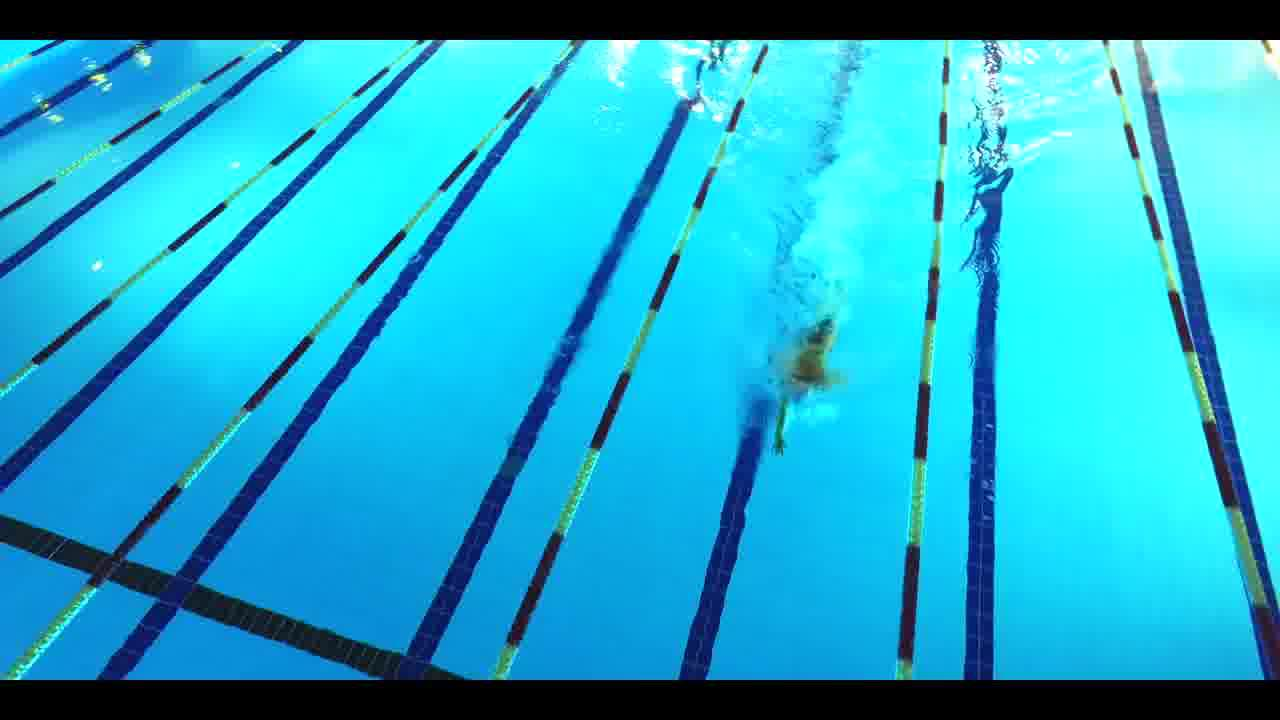human: (751, 299, 844, 463)
